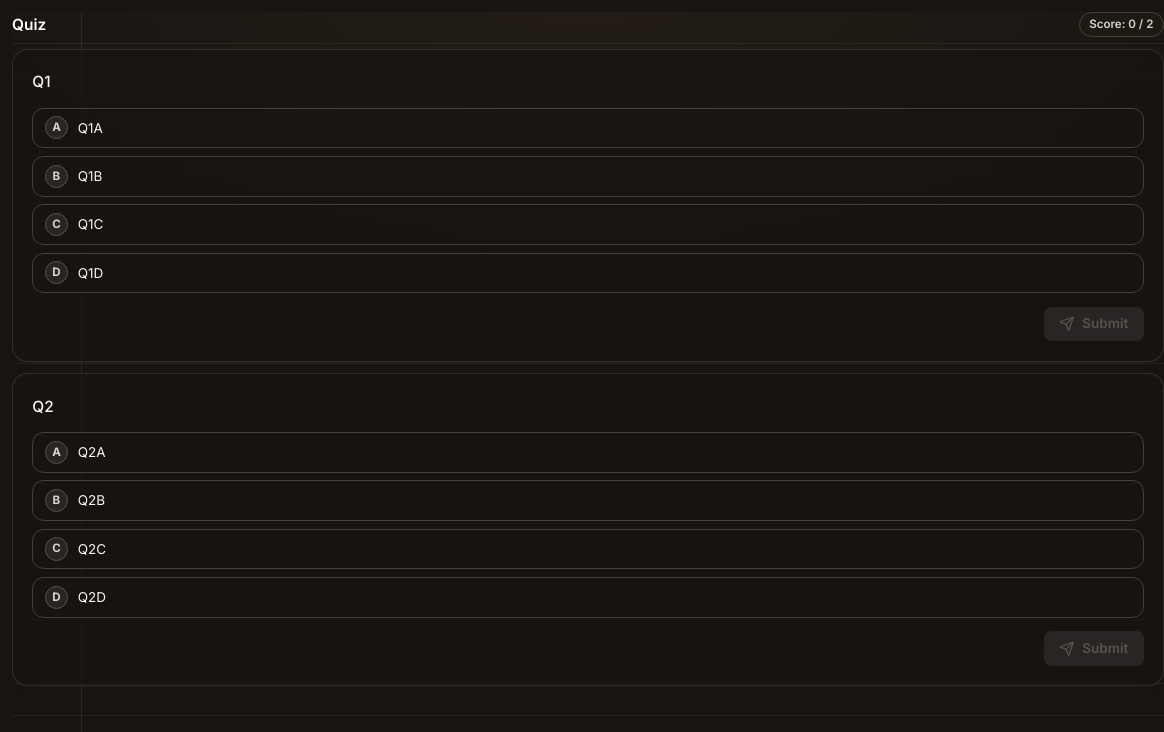
Scenario: QuizSection › resets a single question when its Retry button is used
The width and height of the screenshot is (1164, 732).
Click the radio button labelled "Q1A": [56, 128] box [32,108,1144,148]
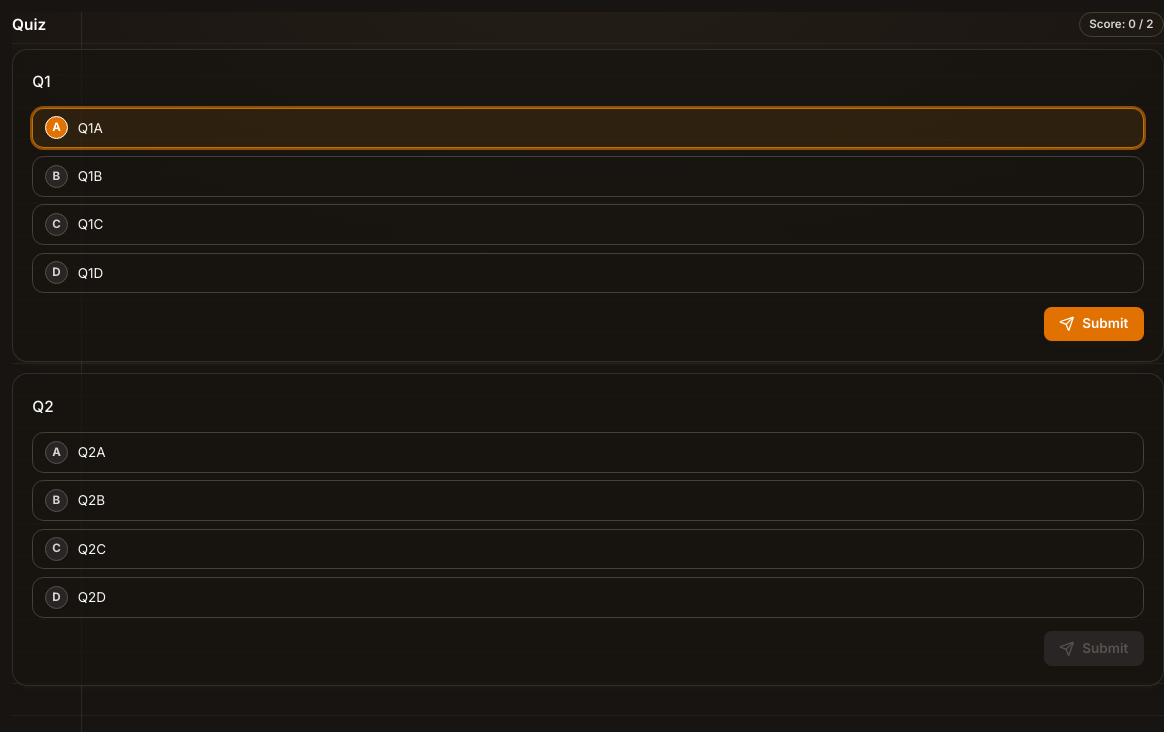
Click the 1st button "Submit": [1094, 324] box [1044,307,1144,341]
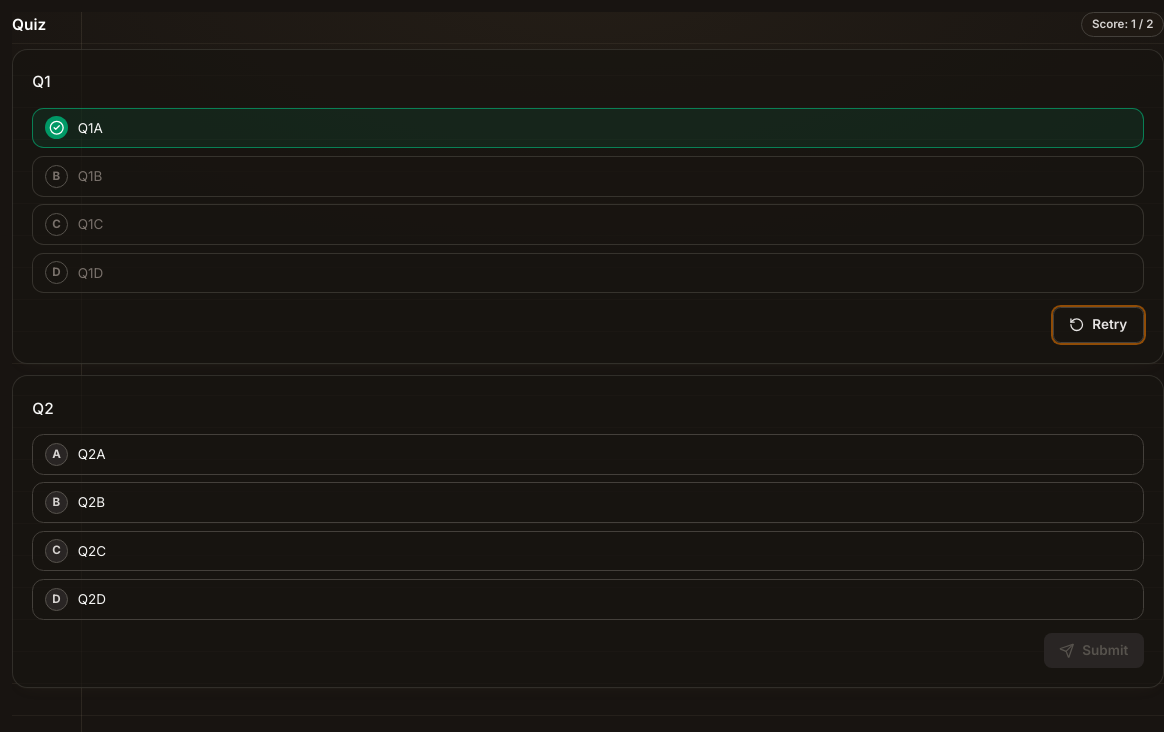
Click the button "Retry": [1098, 325] box [1053,307,1144,343]
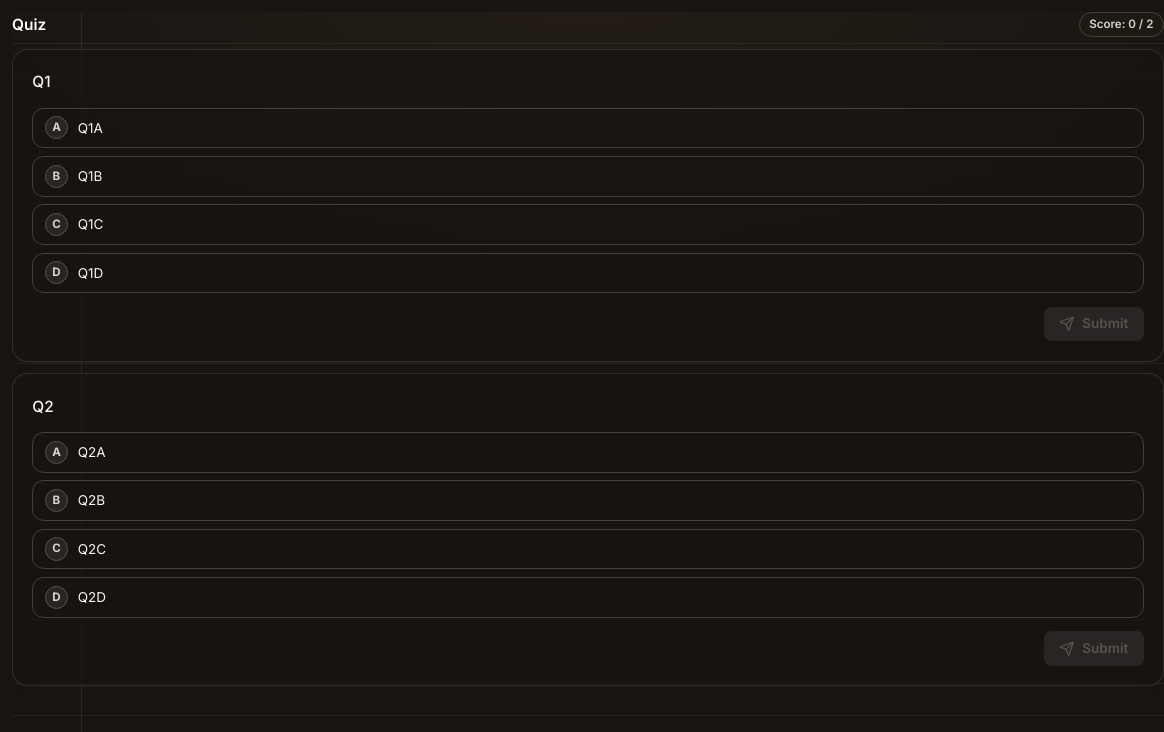
Result: the 1st button "Submit" is shown at [1044,307,1144,341]
Result: the radio button labelled "Q1A" is enabled at [32,108,1144,148]
Result: the text "Score: 0 / 2" is shown at [1078,12,1163,37]
